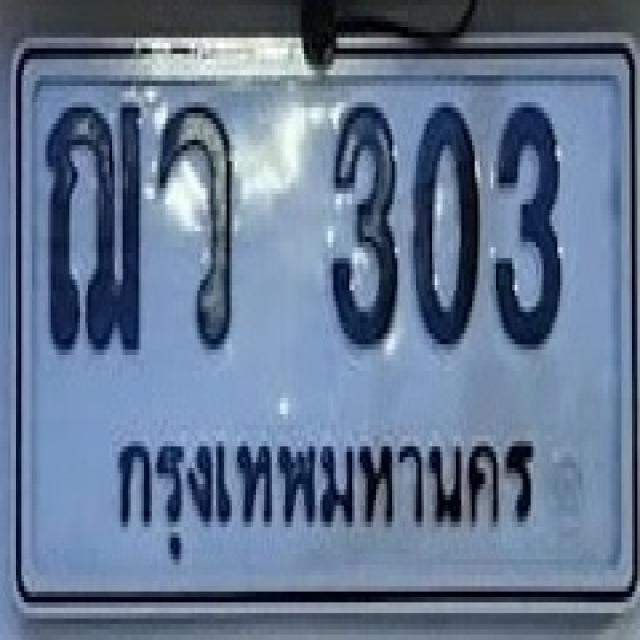license_plate: (11, 35, 640, 617)
